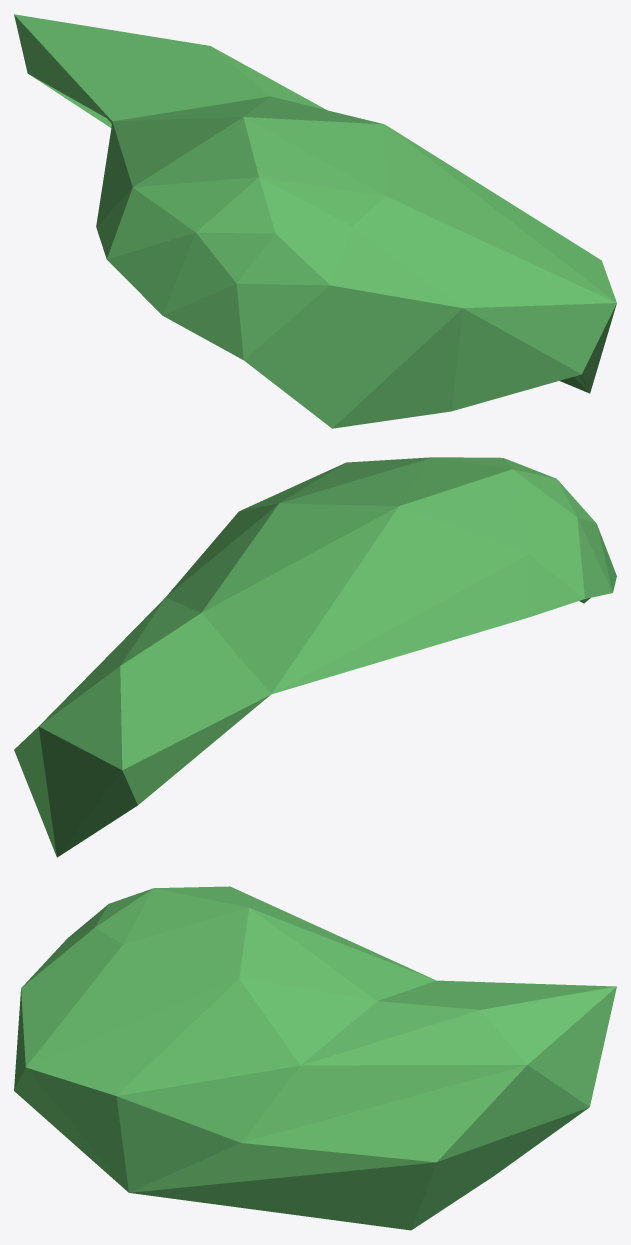
Rendered from ground.055.fbx.
3 views of the same model, one above another, from view 1: azimuth 30°, elevation 25°; view 2: azimuth 150°, elevation 25°; view 3: azimuth 270°, elevation 25° (orthographic). The views are drawn at different scales.
Parts seen in each view (by area): view 1: ground_055; view 2: ground_055; view 3: ground_055.
Boxes of the visible parts, box(x1,y1,x2,y2) form: ground_055: box(14, 14, 616, 428); ground_055: box(14, 457, 616, 857); ground_055: box(14, 886, 616, 1230).
Size of the model in its own units: 3482 by 2544 by 5849.
